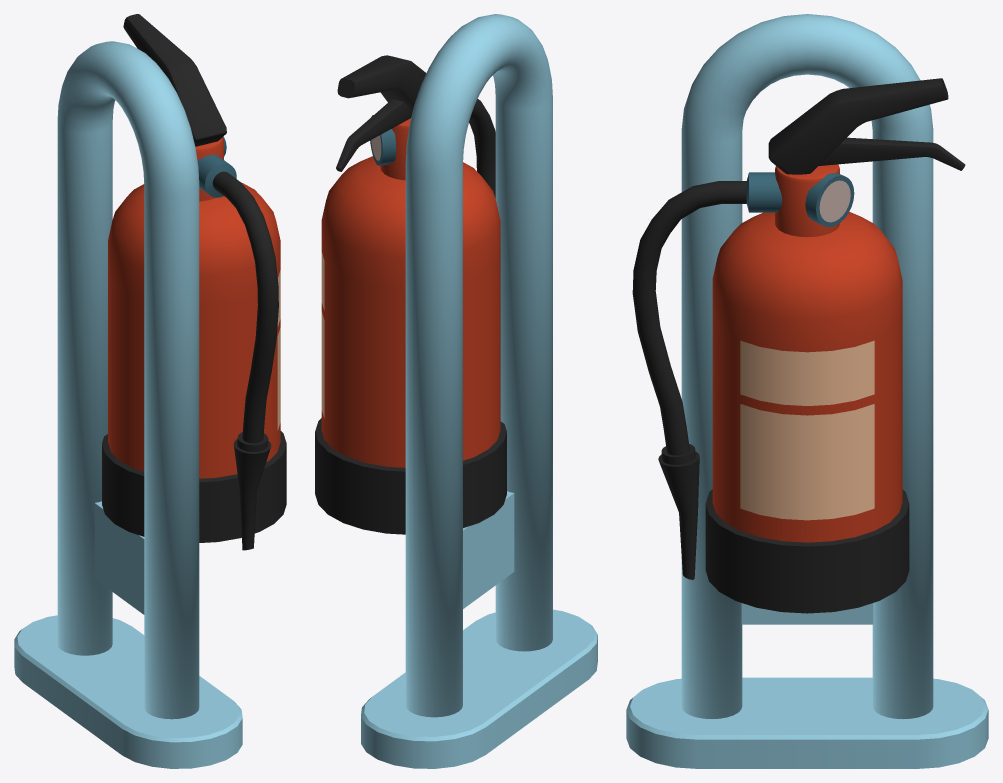
File: 17_6_Model_AIRPORT_0.obj
3 renders of one model, left to right at view 1: azimuth 30°, elevation 25°; view 2: azimuth 150°, elevation 25°; view 3: azimuth 270°, elevation 25°, orthographic. The views are drawn at different scales.
Parts seen in each view (by area): view 1: 17.6.Model_AIRPORT_0; view 2: 17.6.Model_AIRPORT_0; view 3: 17.6.Model_AIRPORT_0.
Boxes of the visible parts, x1,y1,x2,y2 form: 17.6.Model_AIRPORT_0: (14,14,286,768); 17.6.Model_AIRPORT_0: (315,14,597,768); 17.6.Model_AIRPORT_0: (626,14,988,768).
Size of the model in its own units: 0.2631 by 0.8158 by 0.3707.
Materials: 1 (1 with a texture image).
